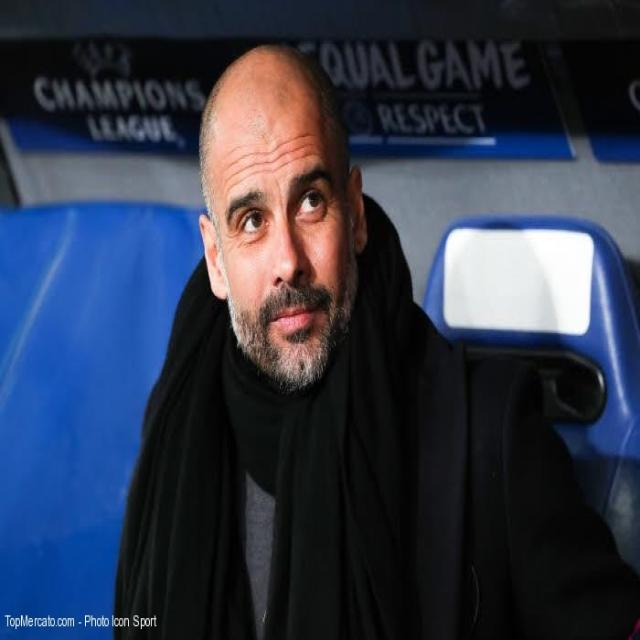human: (116, 27, 631, 640)
